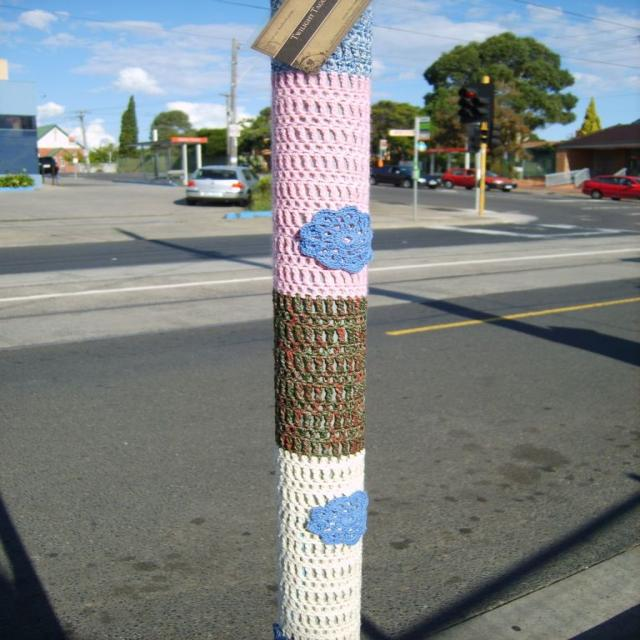car: (184, 163, 259, 207)
